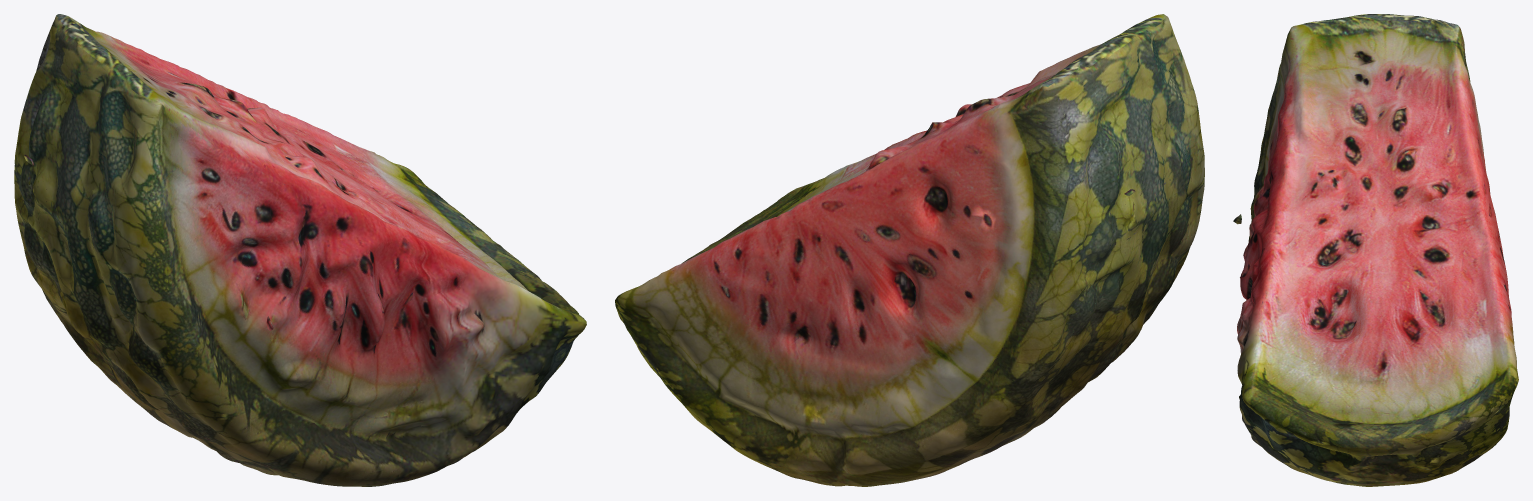
Rendered from uploads_files_5929439_Half_of_a_watermelon_0218164538_refine.glb.
3 renders of one model, left to right at view 1: azimuth 30°, elevation 25°; view 2: azimuth 150°, elevation 25°; view 3: azimuth 270°, elevation 25°, orthographic. The views are drawn at different scales.
Size of the model in its own units: 1.2 by 1.09 by 0.7918.
Materials: 1 (1 with a texture image).
